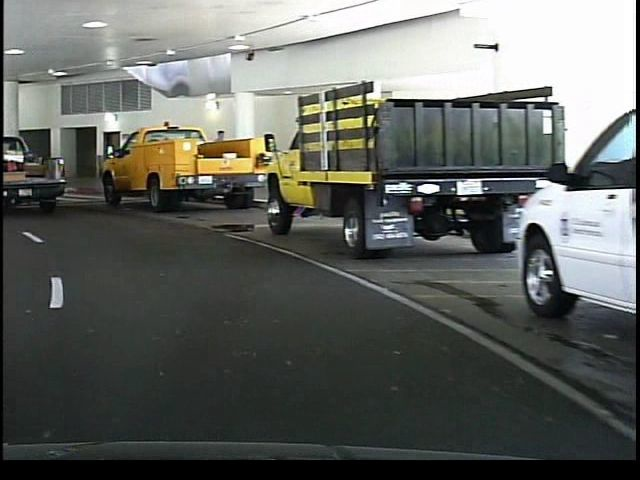person: (208, 124, 231, 196)
